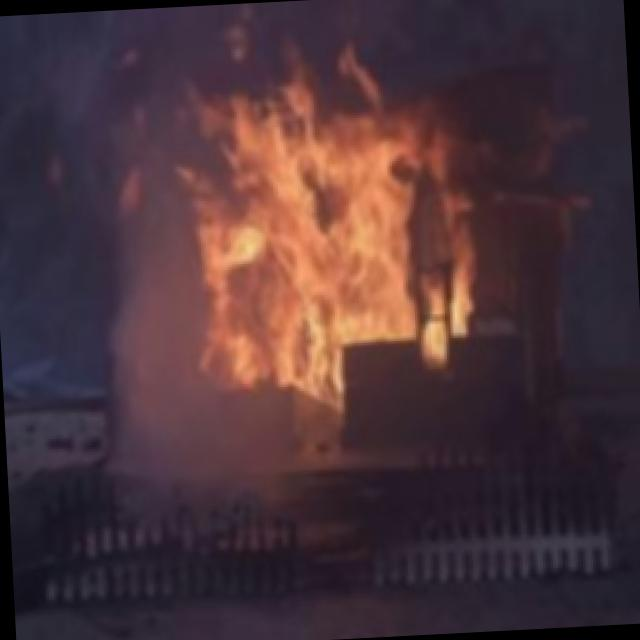fire: (120, 0, 498, 411)
